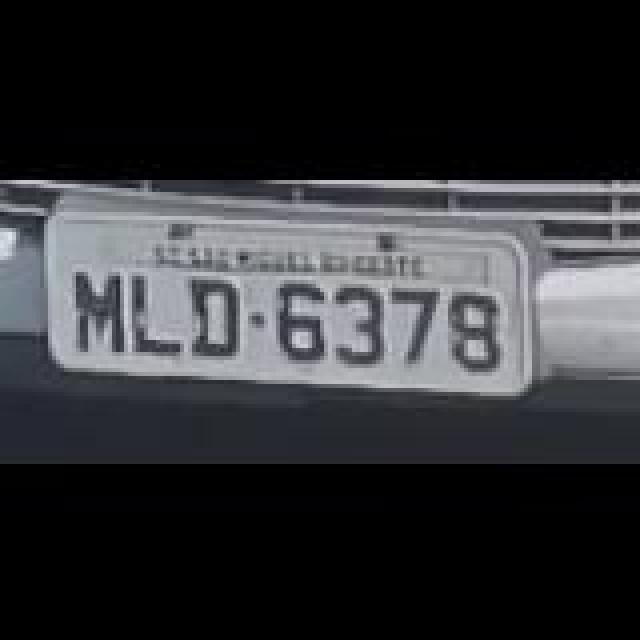3: (338, 284, 390, 364)
6: (278, 280, 330, 360)
7: (392, 284, 440, 364)
8: (448, 288, 504, 368)
D: (190, 276, 242, 356)
L: (130, 272, 182, 352)
M: (72, 266, 128, 350)
